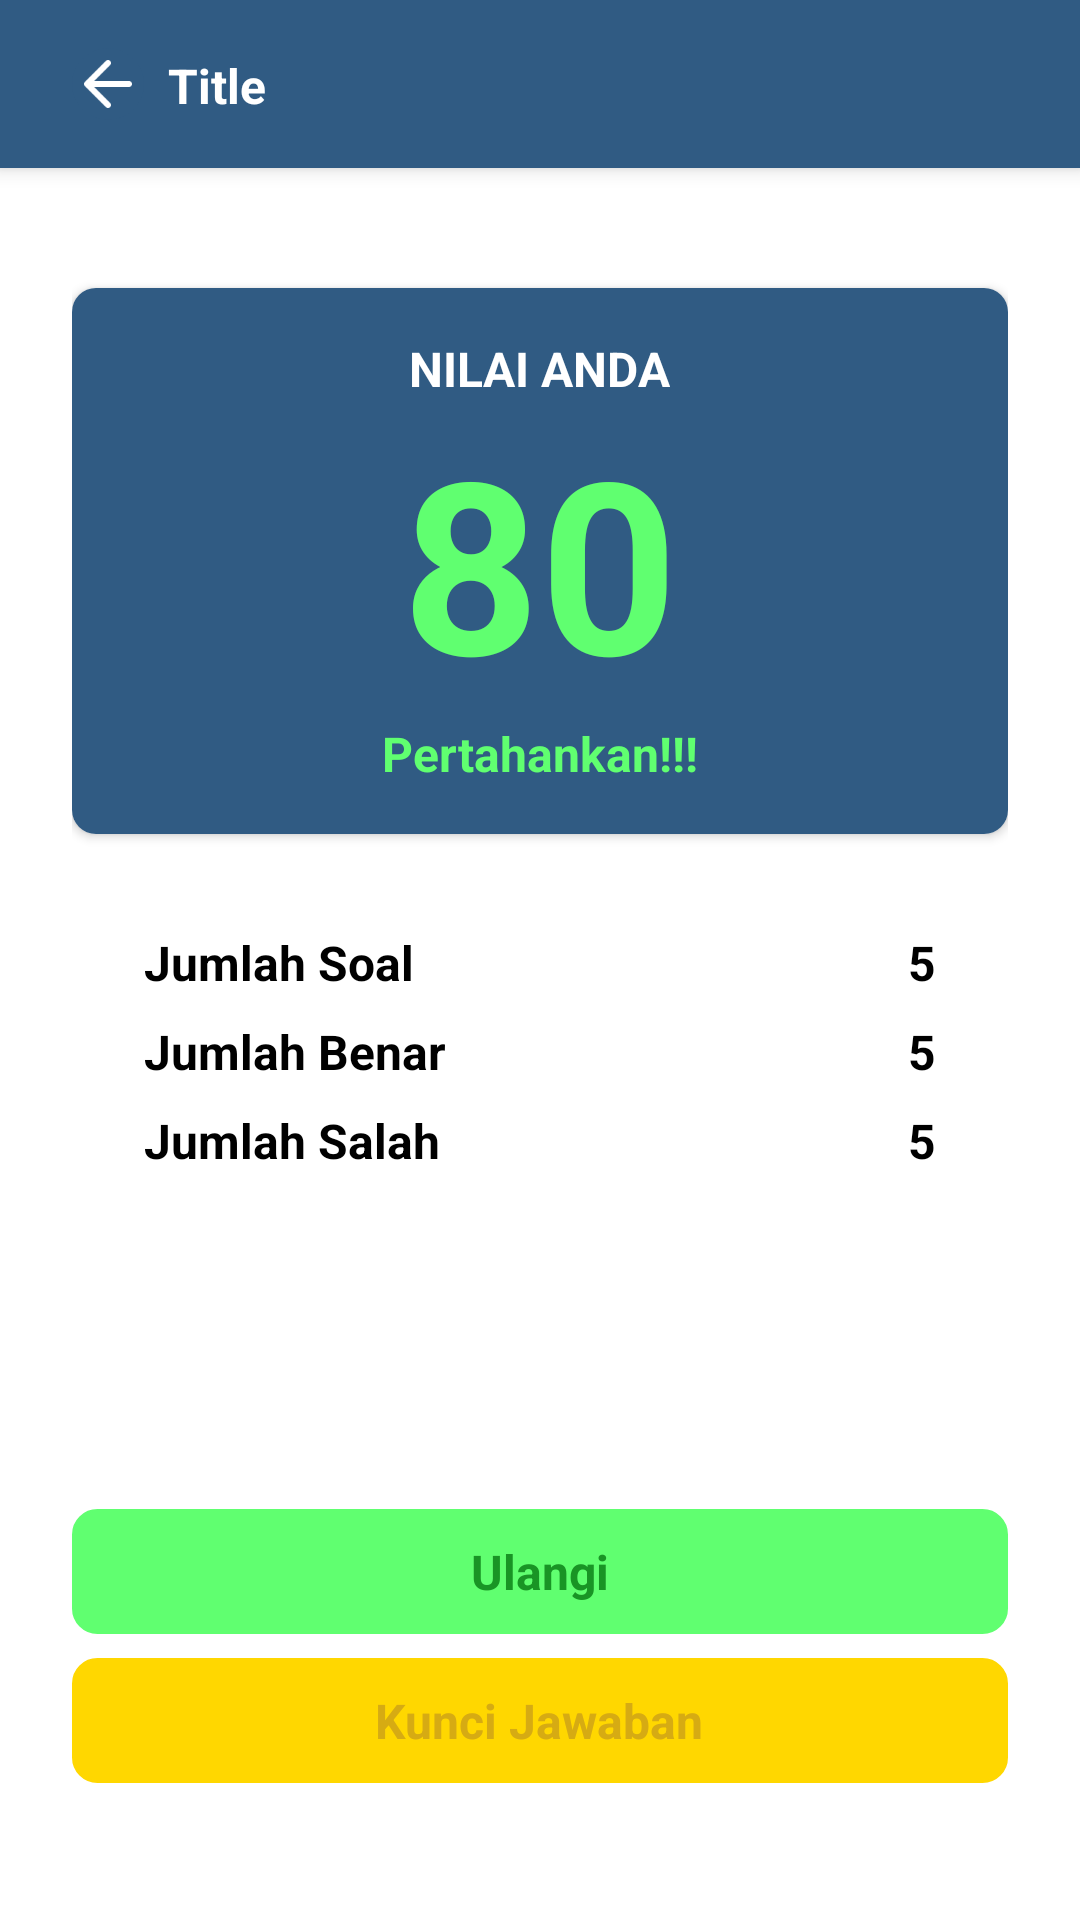

Icons on this 1080px x 1920px Android screen, each with its box as bbox(x1, y1, x2, y2):
arrow left: bbox(84, 60, 132, 108)
